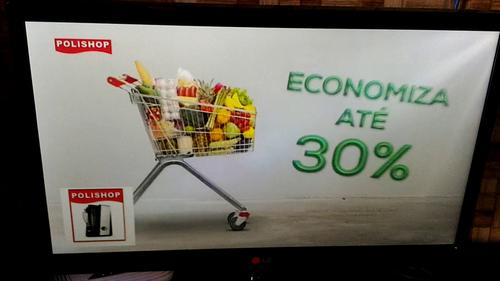Polishop #1: (60, 187, 136, 245)
